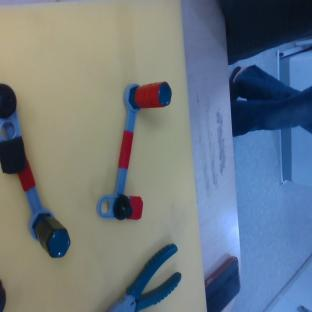non_pass: (0, 79, 75, 266)
pass: (93, 72, 174, 227)
